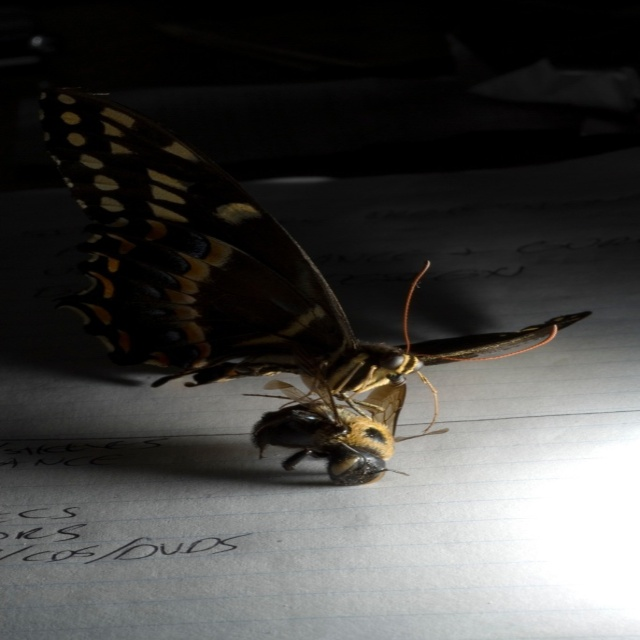Butterfly: (32, 78, 595, 433)
